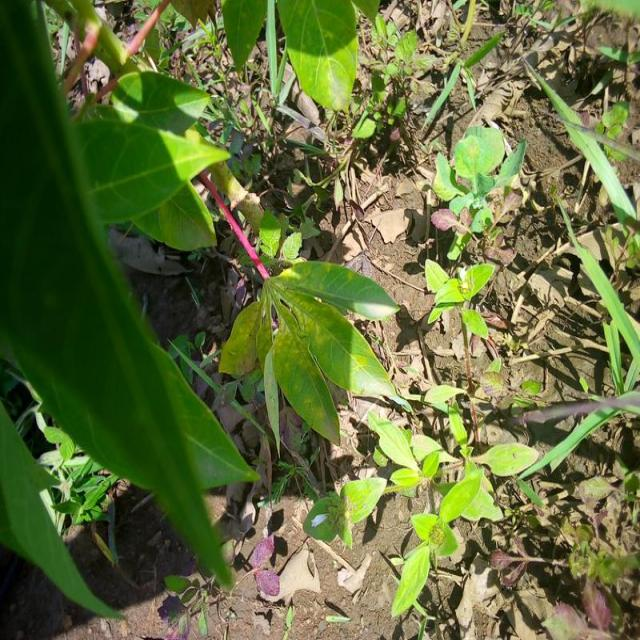Maleza: (436, 128, 640, 617)
Mosaico: (213, 269, 388, 425)
